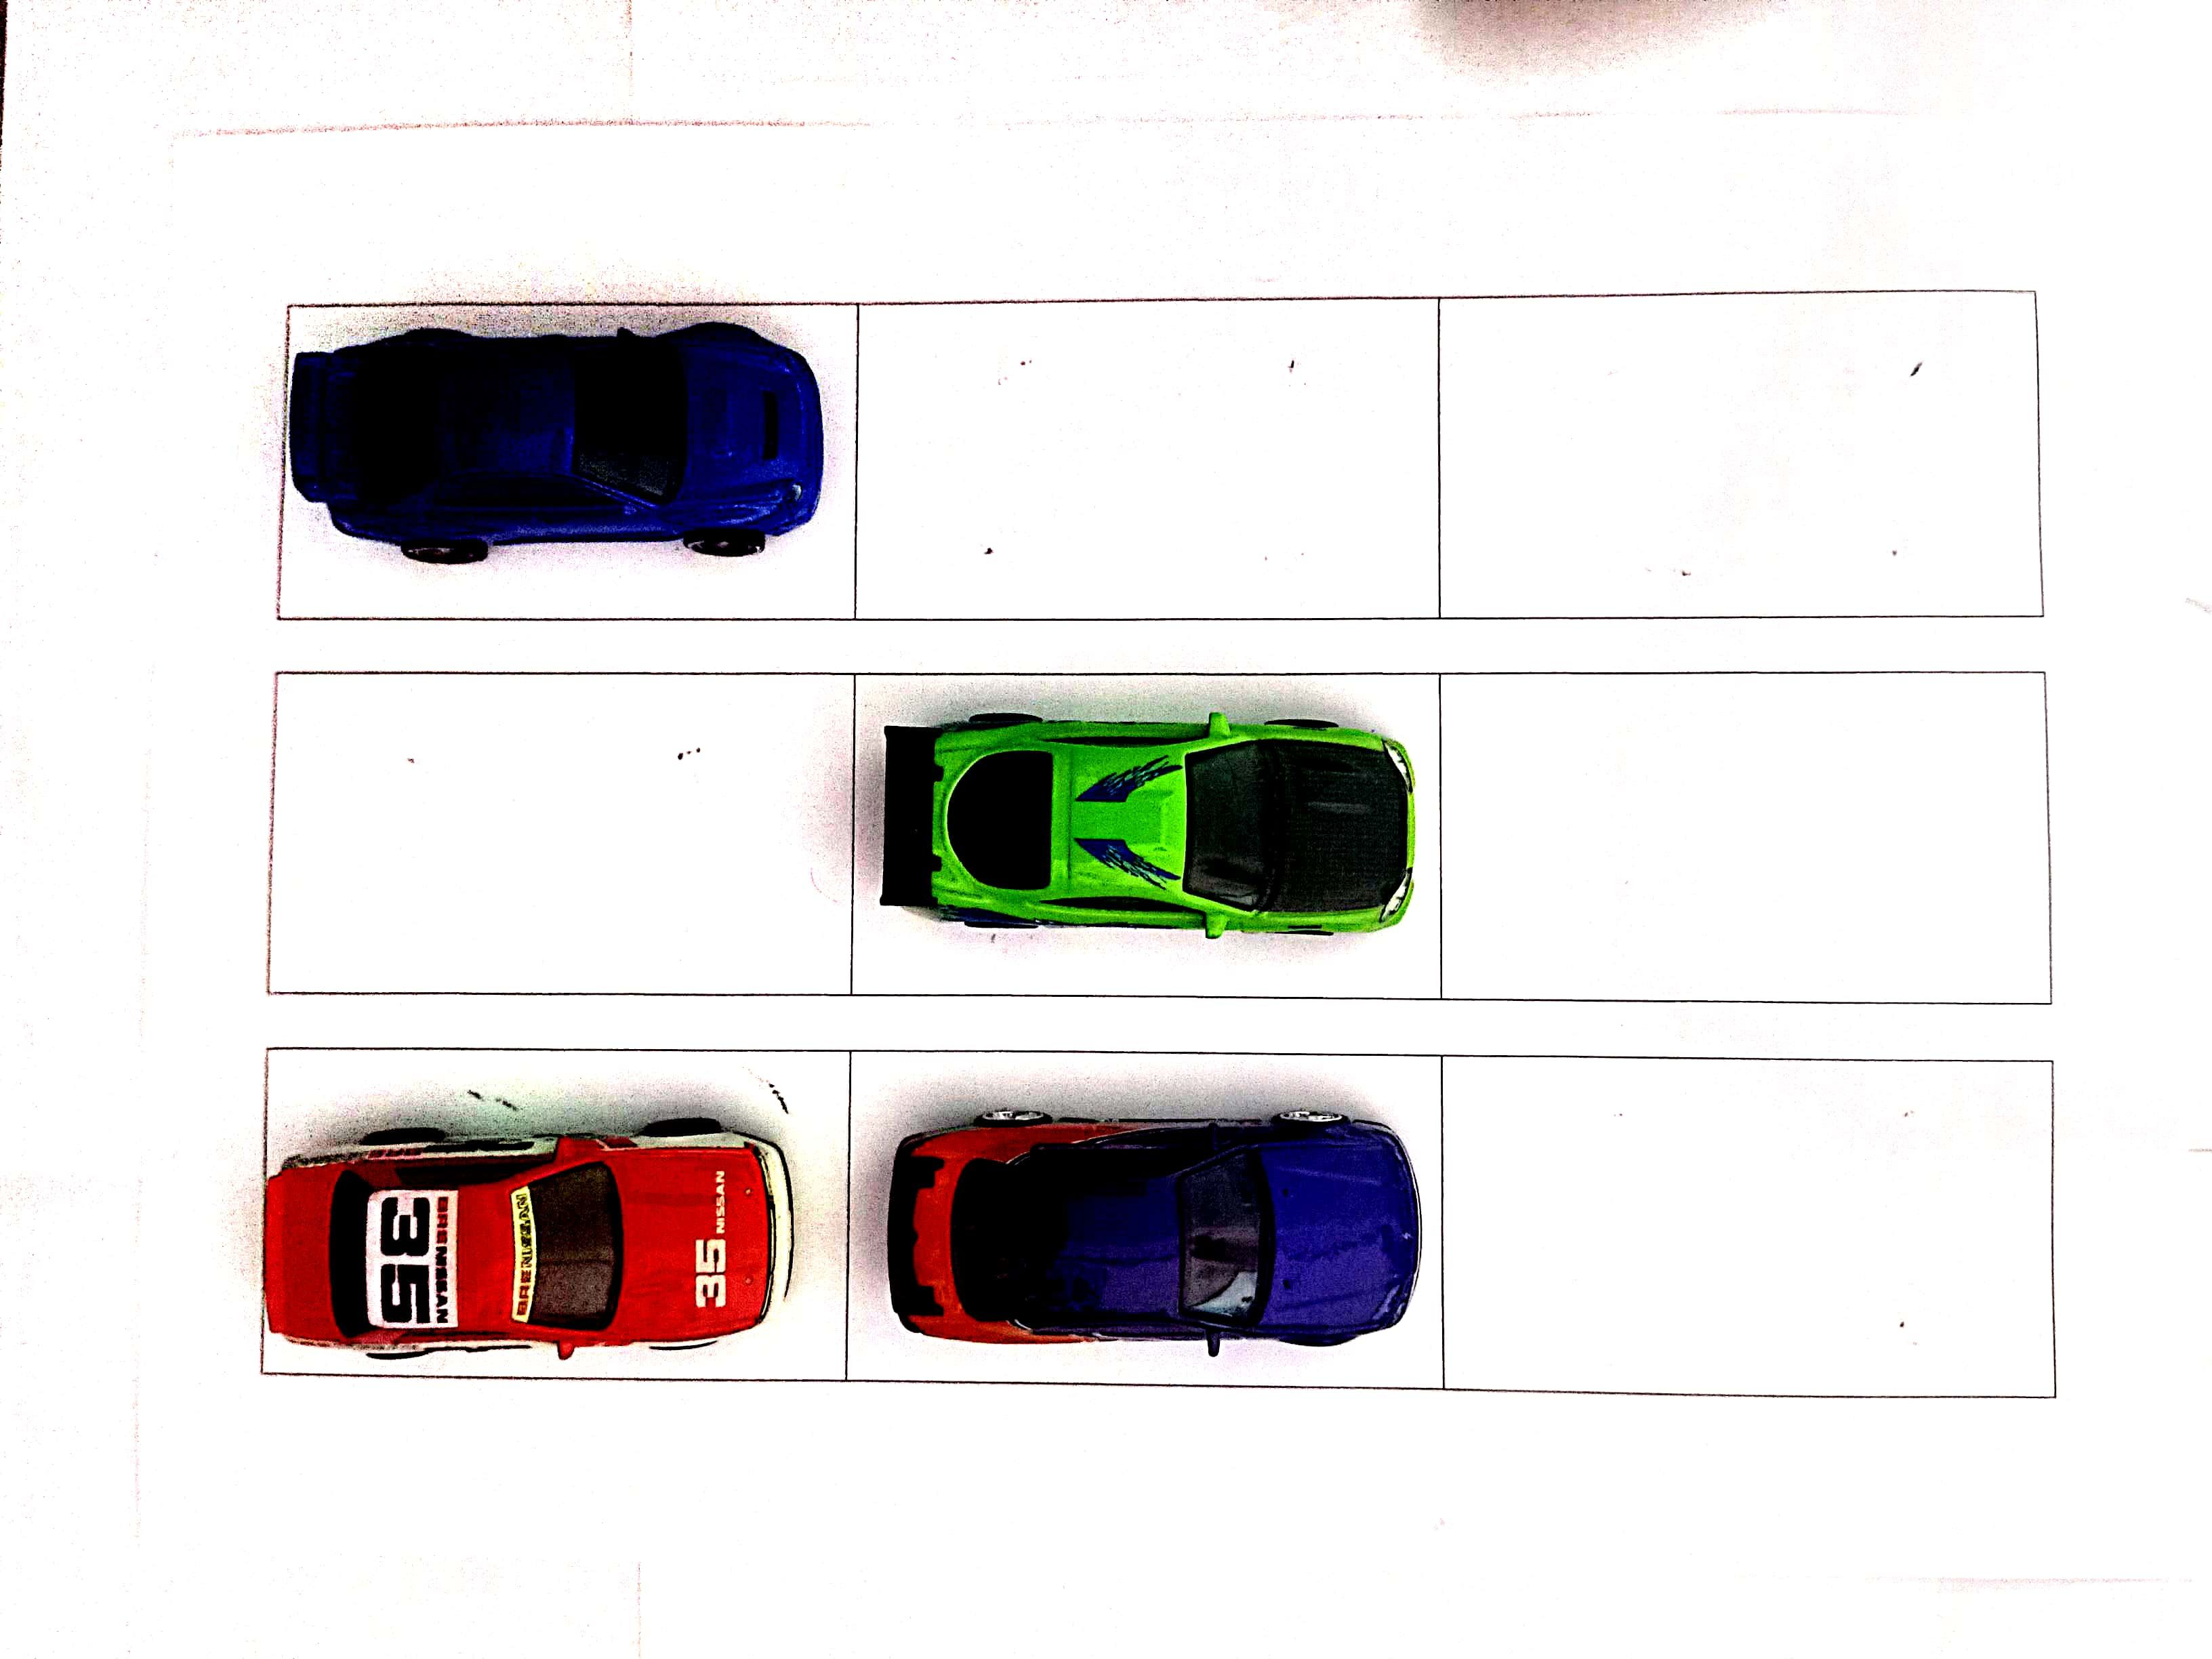Busy: (843, 1060, 1446, 1375), (852, 678, 1442, 997), (263, 1049, 840, 1370), (291, 308, 853, 615)
Free: (1446, 1058, 2050, 1399), (1446, 674, 2041, 995), (862, 298, 1439, 619), (1437, 296, 2031, 606), (273, 680, 846, 995)
